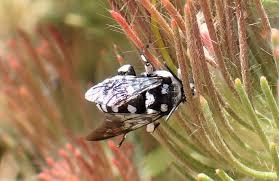Thyreus: (79, 52, 193, 148)
